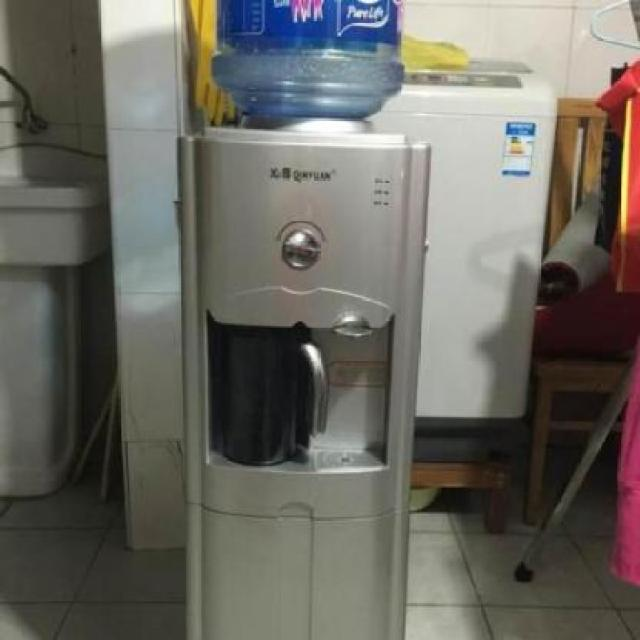cooler: (175, 0, 434, 640)
